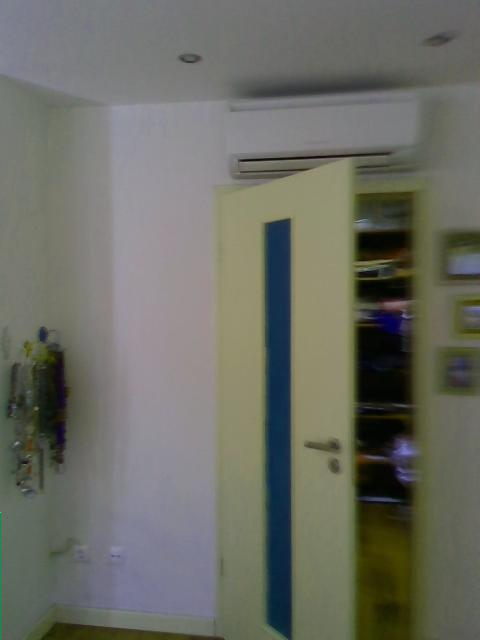semi_door: (211, 157, 427, 639)
